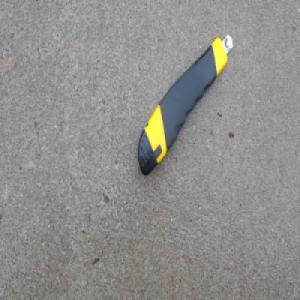Cutter: (137, 33, 233, 178)
